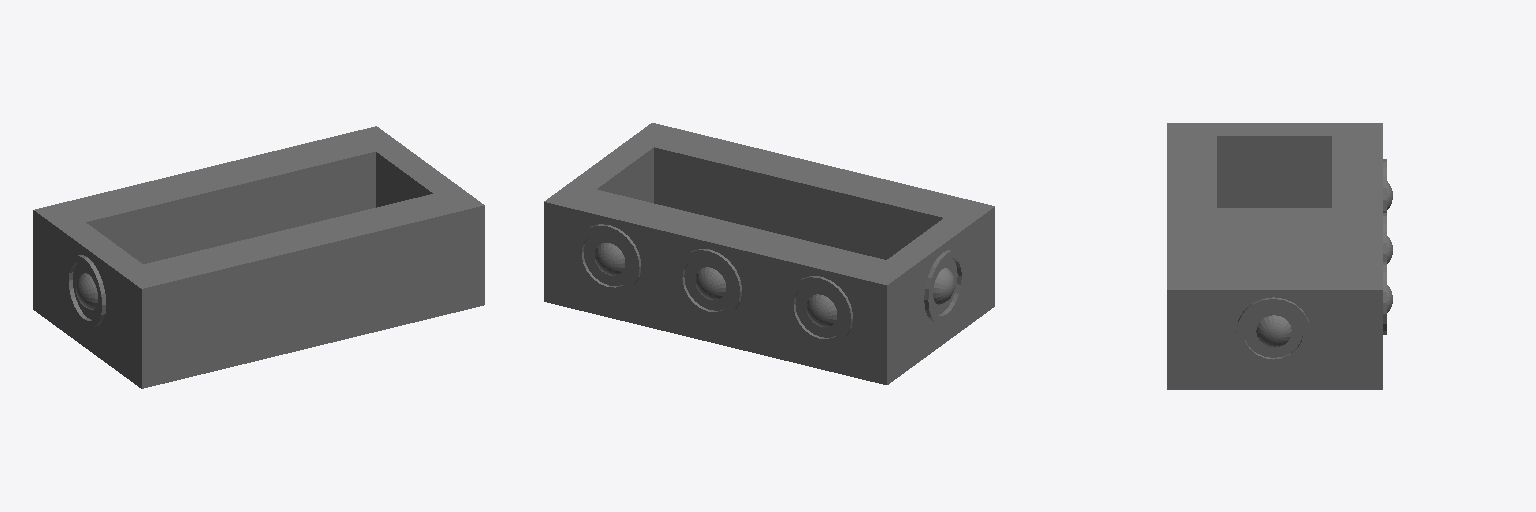
File: Chest.obj
3 renders of one model, left to right at view 1: azimuth 30°, elevation 25°; view 2: azimuth 150°, elevation 25°; view 3: azimuth 270°, elevation 25°, orthographic.
Parts seen in each view (by area): view 1: polySurface218; view 2: polySurface218; view 3: polySurface218.
Boxes of the visible parts, x1=… form: polySurface218: x1=33, y1=126, x2=484, y2=388; polySurface218: x1=544, y1=123, x2=994, y2=384; polySurface218: x1=1167, y1=123, x2=1392, y2=389.
Size of the model in its own units: 168 by 44.31 by 90.81.